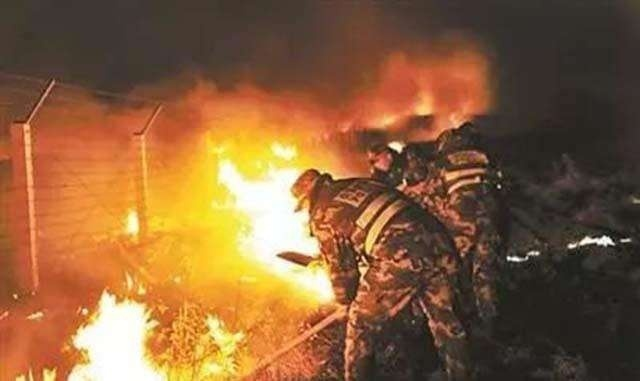fire: (213, 140, 334, 296), (53, 277, 235, 380)
